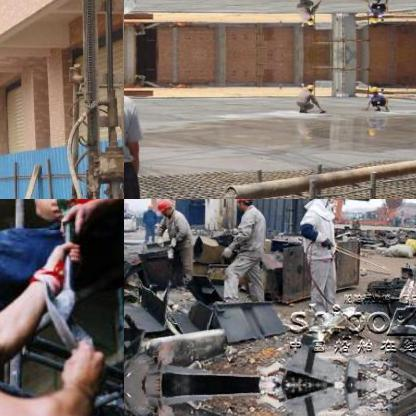Helmet: (152, 199, 176, 215), (233, 199, 254, 211), (313, 199, 339, 204), (304, 80, 312, 92), (370, 82, 378, 94), (304, 14, 312, 26), (370, 12, 378, 24)
